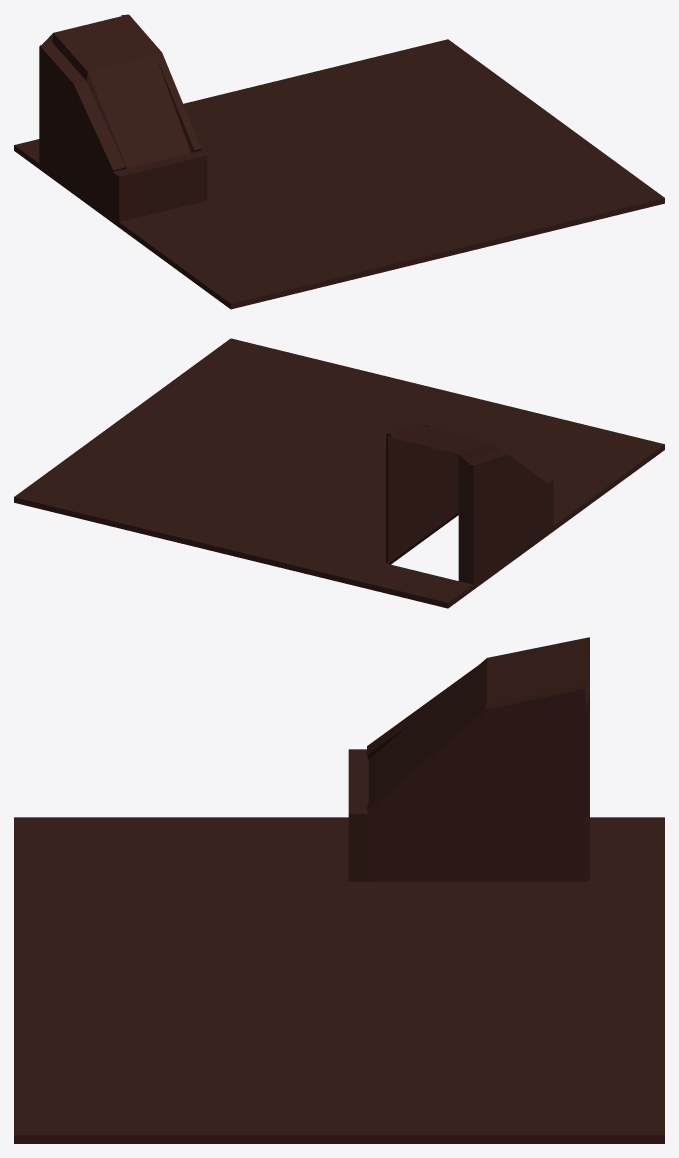
The model's file is M_CeilingDown.fbx.
The picture shows the model from 3 angles, top to bottom: view 1: azimuth 30°, elevation 25°; view 2: azimuth 150°, elevation 25°; view 3: azimuth 270°, elevation 25°; orthographic projection. The views are drawn at different scales.
Parts seen in each view (by area): view 1: Ceiling_Down; view 2: Ceiling_Down; view 3: Ceiling_Down.
Boxes of the visible parts, bbox=[...] form: Ceiling_Down: bbox=[14, 14, 664, 309]; Ceiling_Down: bbox=[14, 338, 664, 608]; Ceiling_Down: bbox=[14, 637, 664, 1143].
Size of the model in its own units: 814 by 241 by 704.
